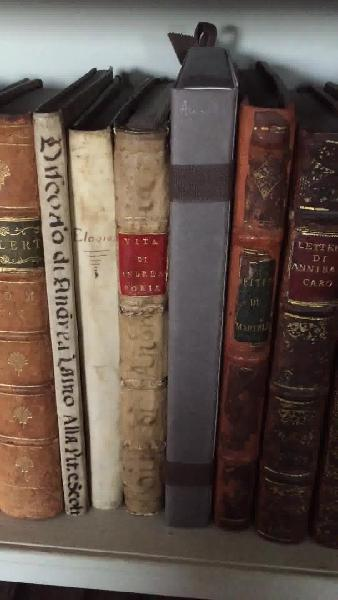Aa6-24: (29, 111, 97, 517)
Aa6-25: (65, 128, 122, 504)
Aa6-26: (108, 127, 171, 518)
Aa6-27: (169, 82, 229, 525)
Aa6-28: (220, 71, 275, 530)
Aa6-29: (264, 107, 338, 547)
